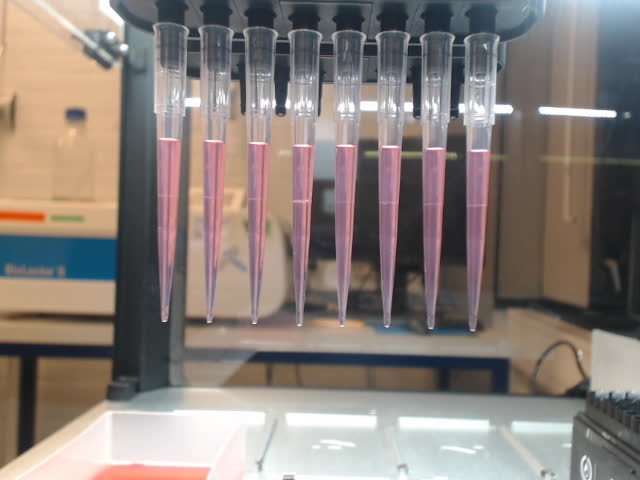Liquid: (152, 131, 184, 326), (243, 137, 274, 328), (287, 141, 317, 332), (462, 148, 492, 334), (420, 144, 449, 334), (331, 142, 359, 332), (376, 143, 403, 332), (198, 135, 224, 329)
Tip: (461, 31, 502, 335), (326, 30, 367, 330), (151, 20, 191, 325), (195, 23, 235, 325), (417, 30, 457, 331), (285, 27, 324, 330), (241, 25, 280, 328), (374, 30, 412, 330)
